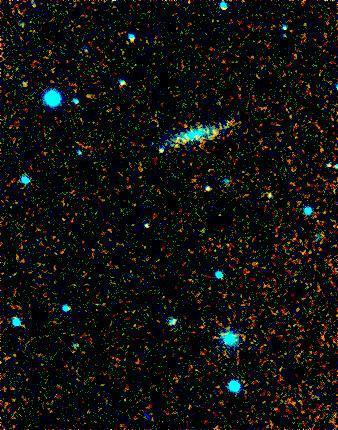star: (200, 115, 230, 145)
